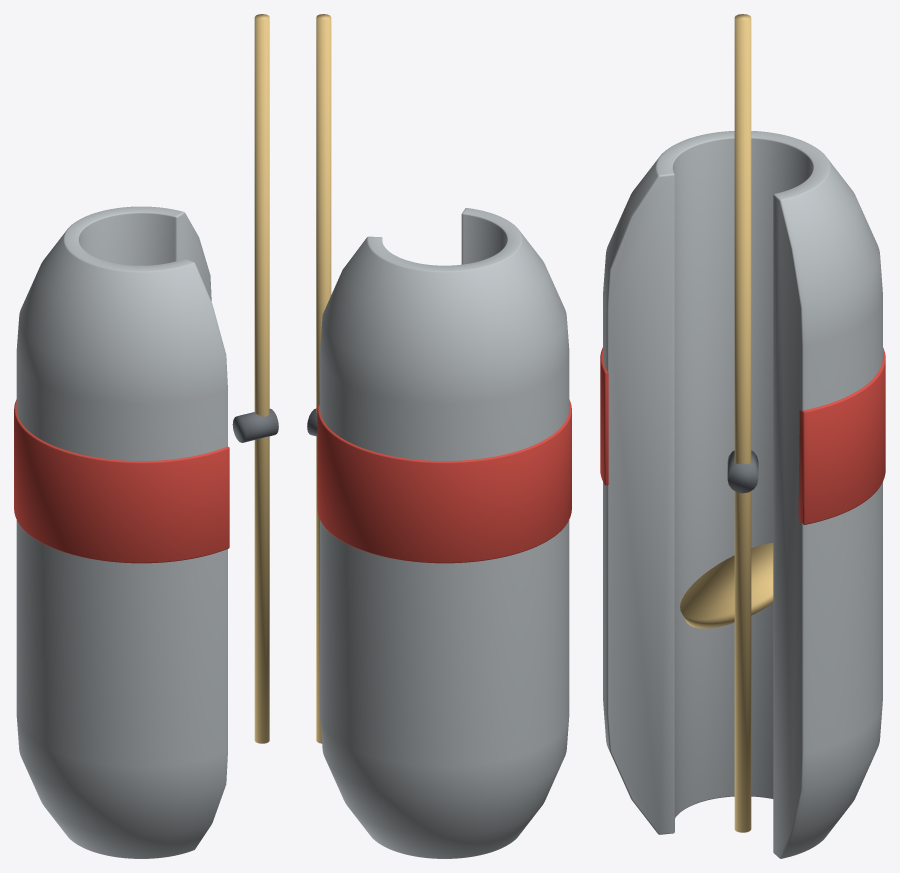
File: safety-valve.glb
3 renders of one model, left to right at view 1: azimuth 30°, elevation 25°; view 2: azimuth 150°, elevation 25°; view 3: azimuth 270°, elevation 25°, orthographic. The views are drawn at different scales.
Parts seen in each view (by area): view 1: Valve body, Hydraulic chamber, Control line, Control port; view 2: Valve body, Hydraulic chamber, Control line; view 3: Valve body, Control line, Hydraulic chamber, Flapper, Control port.
Part boxes in pixels (bbox=[...]): Valve body: bbox=[16, 206, 227, 858]; Hydraulic chamber: bbox=[14, 399, 229, 563]; Control line: bbox=[254, 14, 269, 743]; Control port: bbox=[232, 408, 278, 442]; Valve body: bbox=[320, 208, 569, 858]; Hydraulic chamber: bbox=[317, 399, 571, 563]; Control line: bbox=[316, 14, 331, 743]; Valve body: bbox=[603, 131, 882, 858]; Control line: bbox=[734, 14, 751, 832]; Hydraulic chamber: bbox=[600, 347, 885, 524]; Flapper: bbox=[680, 543, 773, 628]; Control port: bbox=[727, 450, 758, 493].
Bounding box in the file's own units: 2.23 × 6.9 × 2.04.
